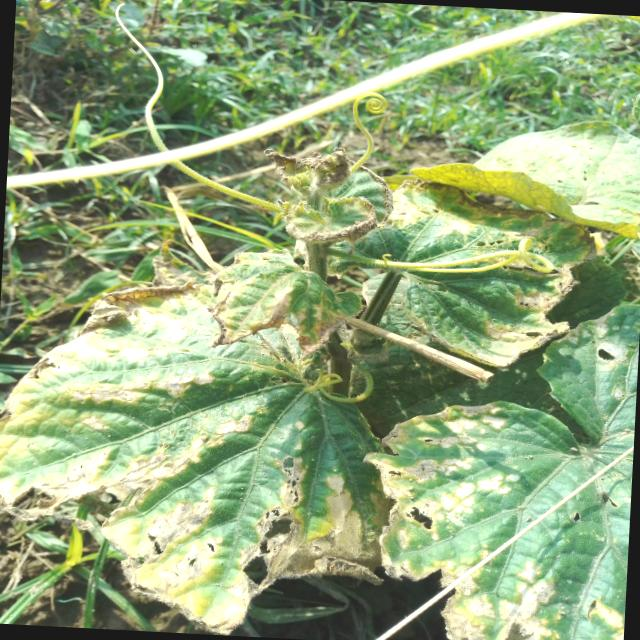cucumber_gummy: (0, 216, 399, 640), (324, 249, 640, 640), (337, 168, 604, 398), (247, 137, 403, 266)
